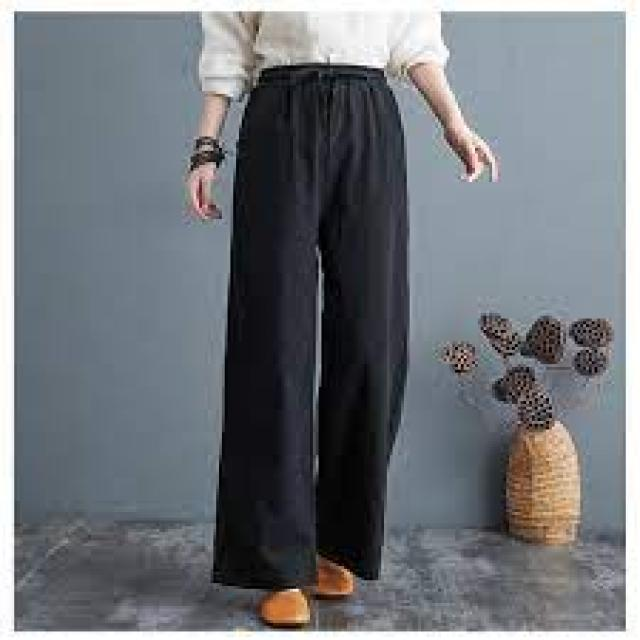pants: (213, 65, 410, 582)
